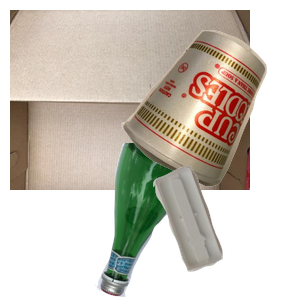cardboard: (10, 10, 250, 190)
glass: (93, 143, 284, 300)
plastic: (150, 163, 300, 300)
trash: (119, 28, 300, 207)
